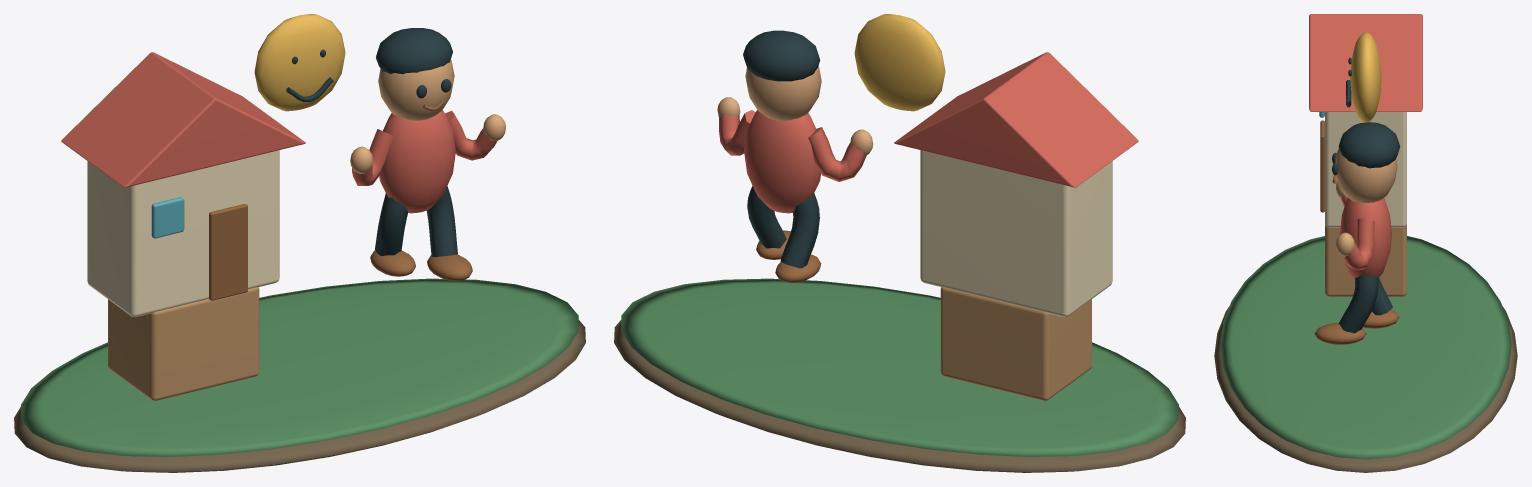
File: complete-first-high-excitement.glb
3 renders of one model, left to right at view 1: azimuth 30°, elevation 25°; view 2: azimuth 150°, elevation 25°; view 3: azimuth 270°, elevation 25°, orthographic. The views are drawn at different scales.
Visible parts, largest first — view 1: complete-first-high-excitement_surface_01, complete-first-high-excitement_surface_03, complete-first-high-excitement_surface_02, complete-first-high-excitement_surface_06, complete-first-high-excitement_surface_00, complete-first-high-excitement_surface_08, complete-first-high-excitement_surface_09, complete-first-high-excitement_surface_04, complete-first-high-excitement_surface_07, complete-first-high-excitement_surface_05; view 2: complete-first-high-excitement_surface_01, complete-first-high-excitement_surface_03, complete-first-high-excitement_surface_02, complete-first-high-excitement_surface_06, complete-first-high-excitement_surface_00, complete-first-high-excitement_surface_09, complete-first-high-excitement_surface_08, complete-first-high-excitement_surface_07, complete-first-high-excitement_surface_04; view 3: complete-first-high-excitement_surface_01, complete-first-high-excitement_surface_03, complete-first-high-excitement_surface_00, complete-first-high-excitement_surface_08, complete-first-high-excitement_surface_02, complete-first-high-excitement_surface_06, complete-first-high-excitement_surface_07, complete-first-high-excitement_surface_09, complete-first-high-excitement_surface_04.
Part boxes in pixels (<box>): complete-first-high-excitement_surface_01: <box>21,278,578,456</box>; complete-first-high-excitement_surface_03: <box>61,52,497,213</box>; complete-first-high-excitement_surface_02: <box>87,150,279,317</box>; complete-first-high-excitement_surface_06: <box>108,287,259,400</box>; complete-first-high-excitement_surface_00: <box>14,320,585,472</box>; complete-first-high-excitement_surface_08: <box>286,28,457,256</box>; complete-first-high-excitement_surface_09: <box>254,14,345,111</box>; complete-first-high-excitement_surface_04: <box>209,100,472,300</box>; complete-first-high-excitement_surface_07: <box>350,59,505,173</box>; complete-first-high-excitement_surface_05: <box>151,197,184,238</box>; complete-first-high-excitement_surface_01: <box>621,278,1178,456</box>; complete-first-high-excitement_surface_03: <box>718,52,1138,213</box>; complete-first-high-excitement_surface_02: <box>920,150,1112,317</box>; complete-first-high-excitement_surface_06: <box>940,287,1091,400</box>; complete-first-high-excitement_surface_00: <box>614,320,1185,472</box>; complete-first-high-excitement_surface_09: <box>854,14,945,111</box>; complete-first-high-excitement_surface_08: <box>743,30,820,268</box>; complete-first-high-excitement_surface_07: <box>717,65,873,155</box>; complete-first-high-excitement_surface_04: <box>756,230,821,282</box>; complete-first-high-excitement_surface_01: <box>1220,236,1511,459</box>; complete-first-high-excitement_surface_03: <box>1309,14,1422,279</box>; complete-first-high-excitement_surface_00: <box>1214,306,1517,472</box>; complete-first-high-excitement_surface_08: <box>1332,57,1400,333</box>; complete-first-high-excitement_surface_02: <box>1325,112,1406,227</box>; complete-first-high-excitement_surface_06: <box>1325,224,1406,296</box>; complete-first-high-excitement_surface_07: <box>1335,148,1397,256</box>; complete-first-high-excitement_surface_09: <box>1350,32,1381,122</box>; complete-first-high-excitement_surface_04: <box>1314,120,1399,344</box>.
Bounding box in the file's own units: 4.56 × 3.04 × 2.5.
